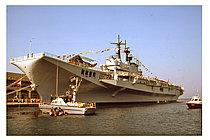MIL_Ship: (9, 36, 184, 103)
